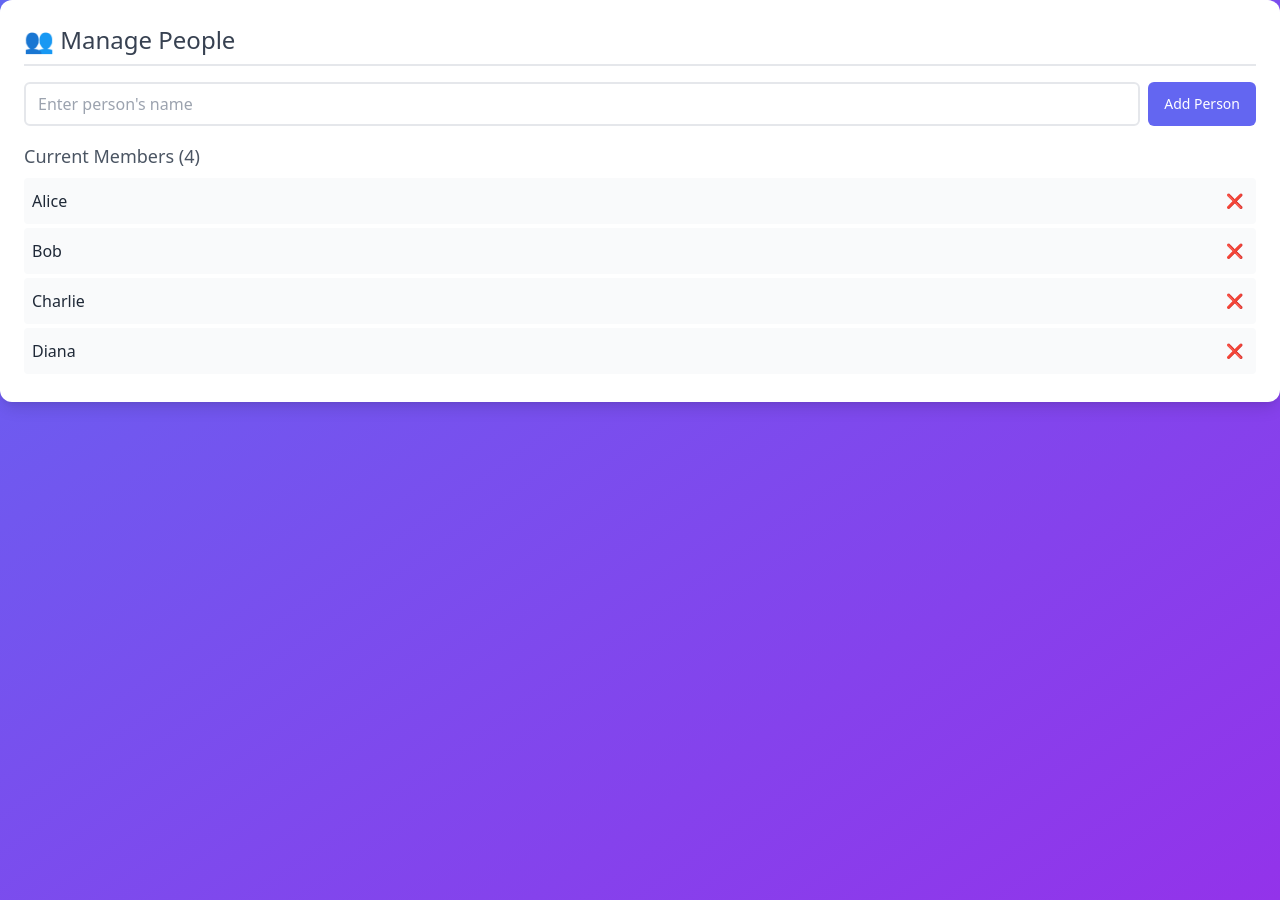
Test: PeopleManager › prevents adding empty name
Click the button "Add Person": point(1202, 104) [1148,82,1256,126]
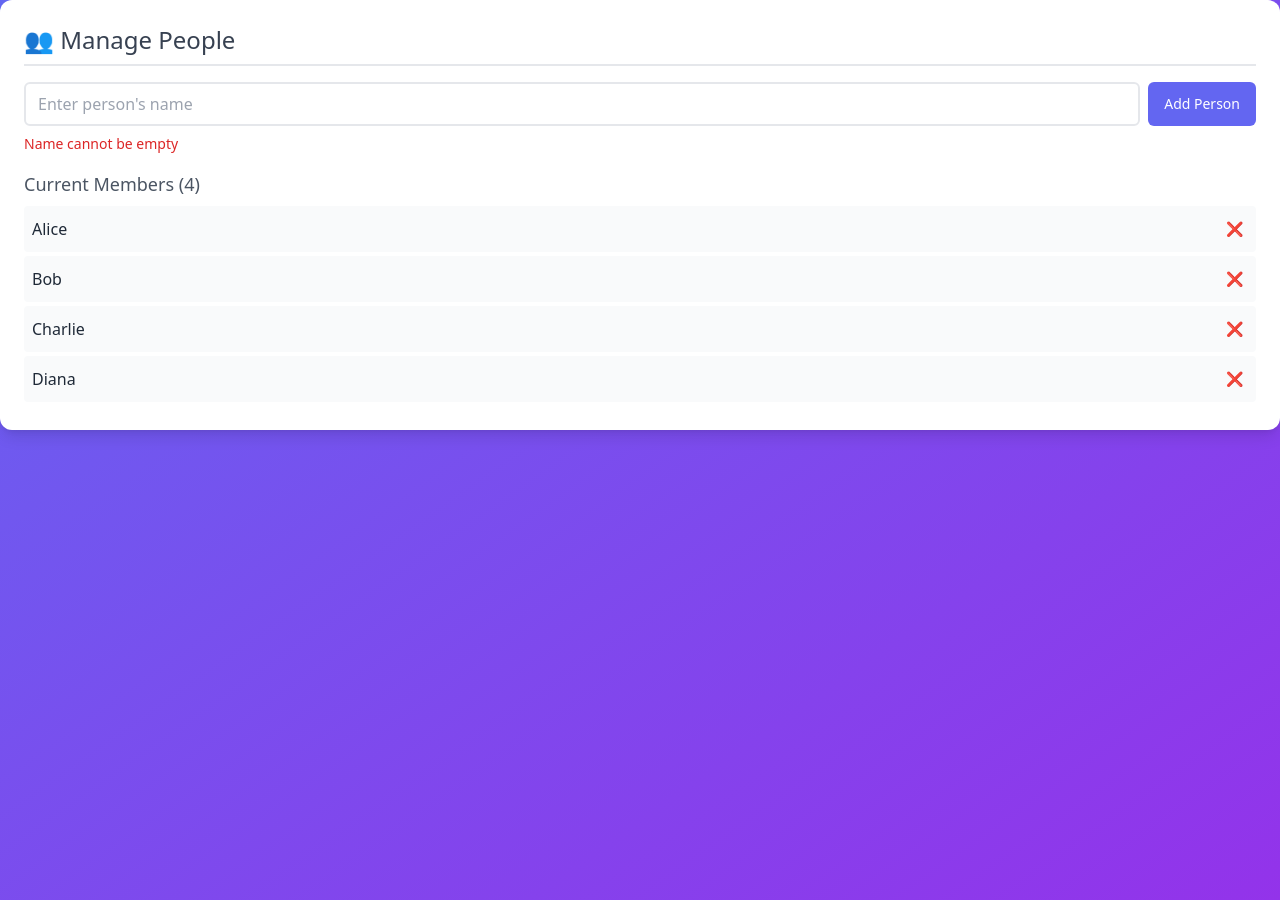
Check: the text "Name cannot be empty" is shown, box [24,134,178,153]
